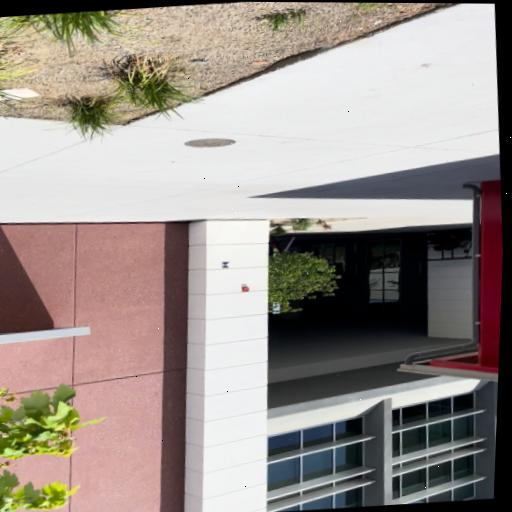target6: (220, 262, 230, 268)
